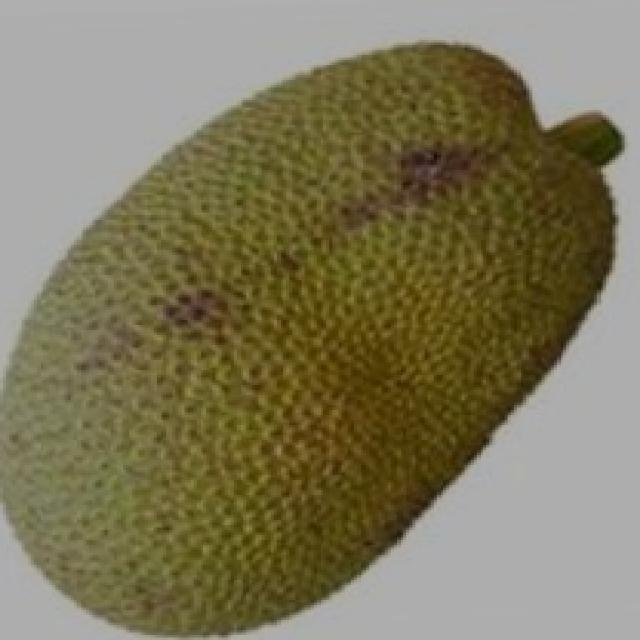Fruit: (0, 290, 403, 638), (249, 12, 640, 370)
